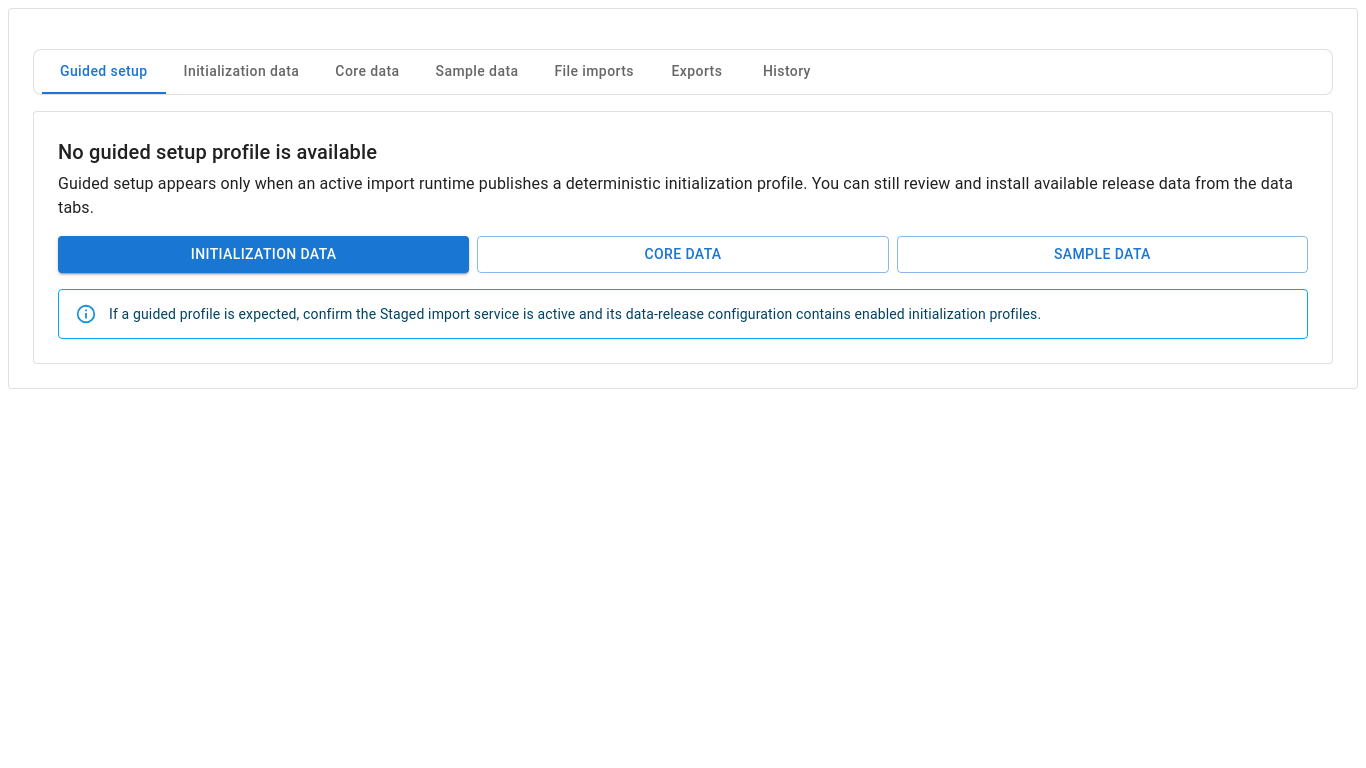
Test: ImportExportRoutePage › shows selected data release operation errors inside the action footer
What coordinates should you click on to do the following:
click the tab "Core data"
I would click on:
 (368, 72)
Its box is [317, 50, 418, 94].
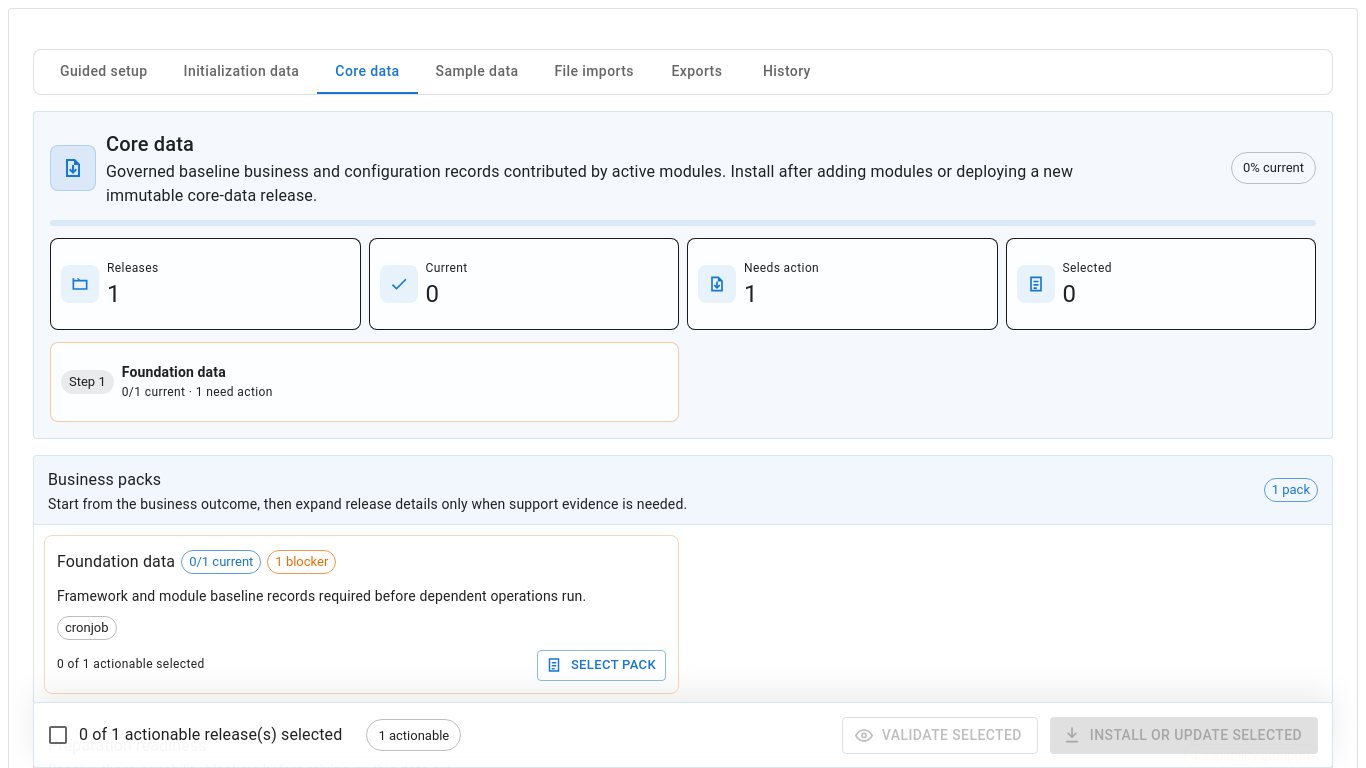
What coordinates should you click on to do the following:
click the checkbox named "Select all actionable releases"
I would click on:
 (194, 735)
Its box is [46, 723, 342, 747].
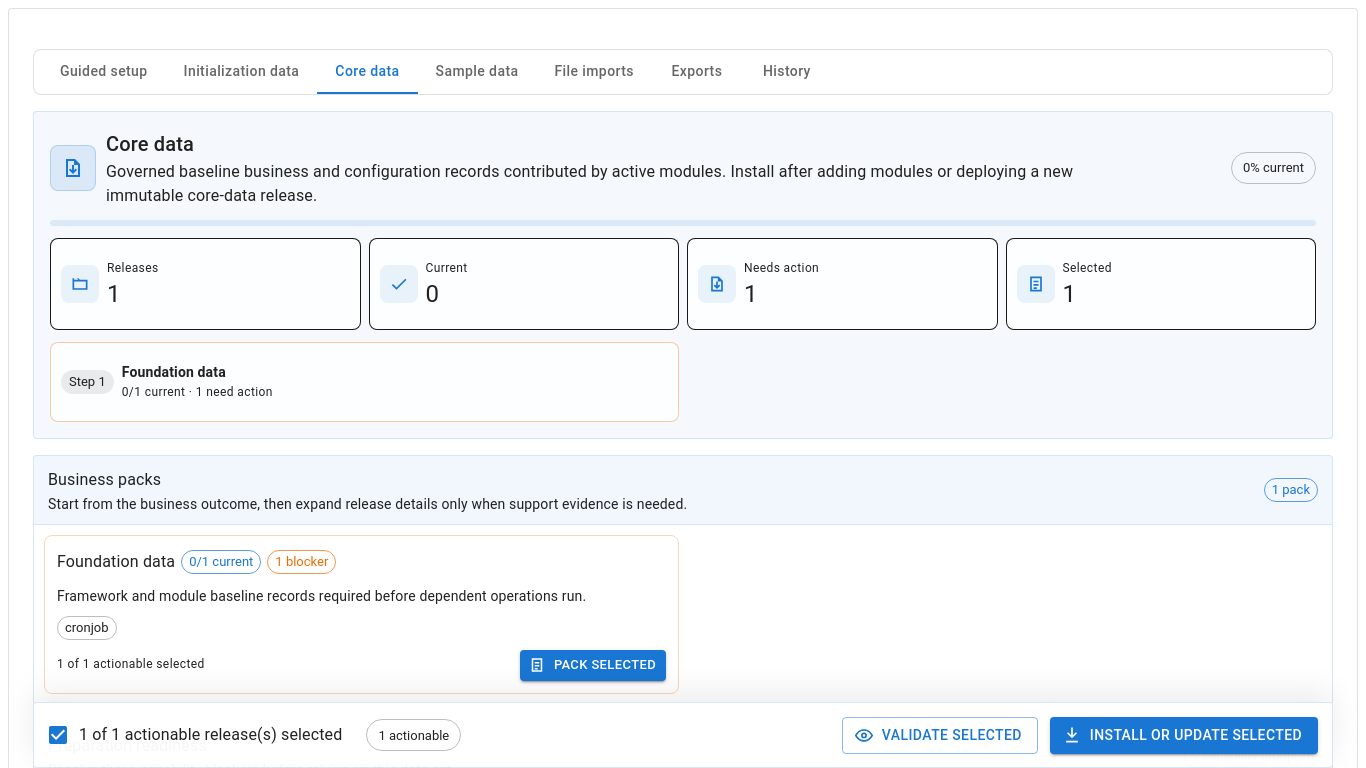
What coordinates should you click on to do the following:
click the button "Validate selected"
I would click on:
 (940, 735)
Its box is [842, 717, 1038, 754].
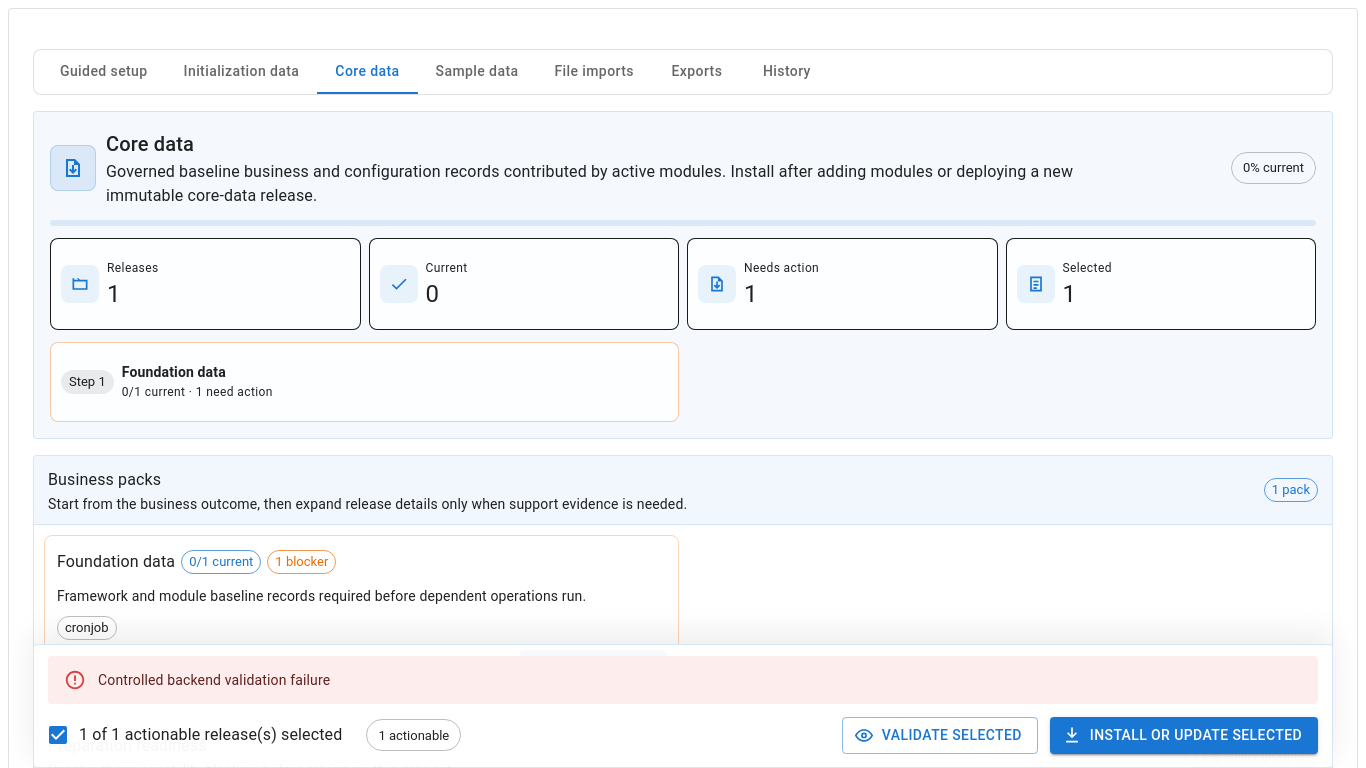
Now the text "Controlled backend validation failure" is shown, box [98, 672, 330, 688]
